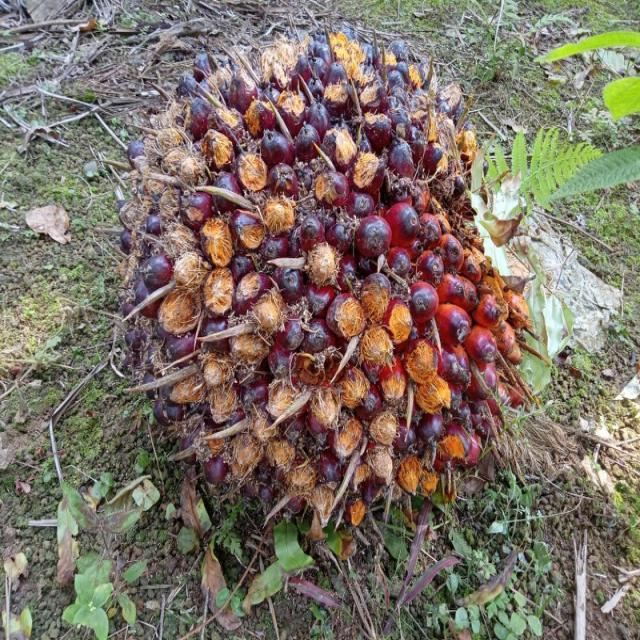fraksi 1: (120, 29, 546, 581)
